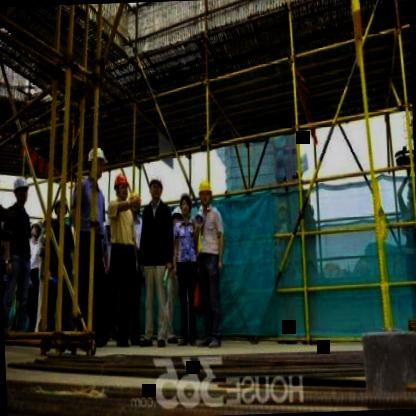helmet: (86, 142, 110, 182), (13, 175, 31, 207), (148, 172, 164, 205), (113, 172, 130, 202), (52, 191, 69, 221), (198, 180, 214, 210), (178, 191, 194, 220), (170, 205, 186, 229), (29, 217, 42, 242)
